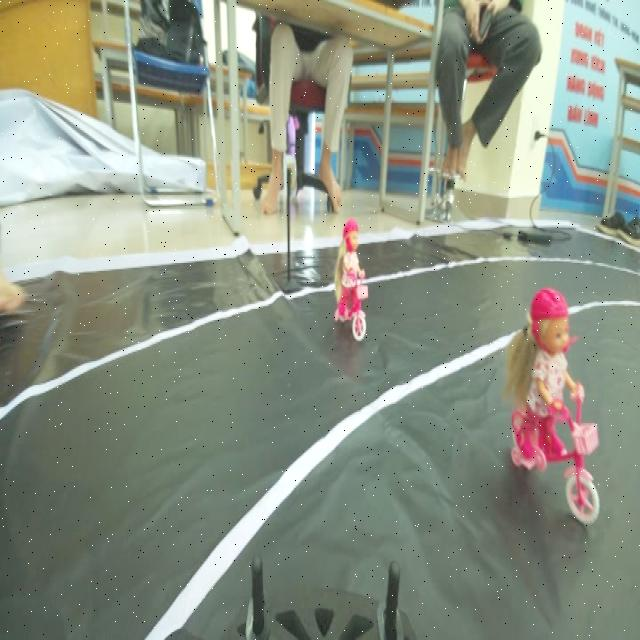pedestrian: (511, 281, 608, 525), (334, 213, 373, 326)
